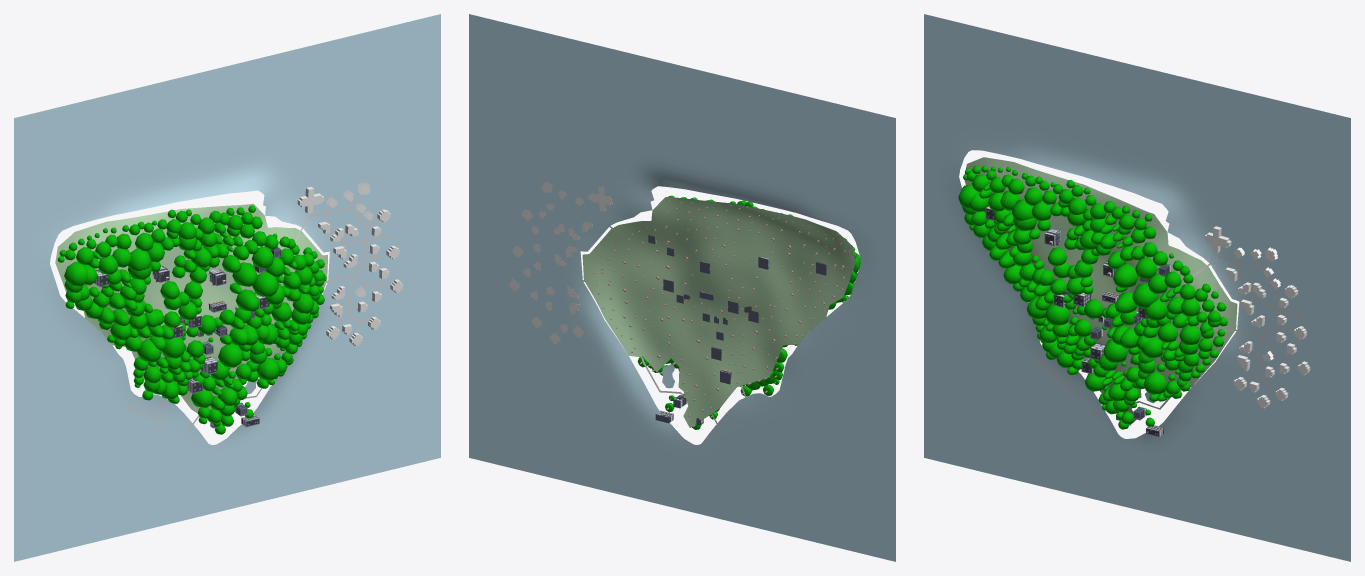
Rendered from kawasan-pantai.glb.
The picture shows the model from 3 angles, left to right: view 1: azimuth 30°, elevation 25°; view 2: azimuth 150°, elevation 25°; view 3: azimuth 330°, elevation 25°; orthographic projection.
Visible parts, largest first — view 1: TPX_Waterways_2, TPX_GreenAreas, TPX_Buildings, TPX_RoadsOutlines; view 2: TPX_Waterways_2, TPX_GreenAreas, TPX_Buildings; view 3: TPX_Waterways_2, TPX_GreenAreas, TPX_Buildings, TPX_RoadsOutlines.
Boxes of the visible parts, left/top/right/bottom form: TPX_Waterways_2: left=14, top=14, right=440, bottom=561; TPX_GreenAreas: left=55, top=203, right=327, bottom=423; TPX_Buildings: left=297, top=182, right=402, bottom=346; TPX_RoadsOutlines: left=126, top=194, right=394, bottom=436; TPX_Waterways_2: left=469, top=14, right=895, bottom=561; TPX_GreenAreas: left=582, top=197, right=855, bottom=427; TPX_Buildings: left=509, top=182, right=612, bottom=344; TPX_Waterways_2: left=924, top=14, right=1350, bottom=561; TPX_GreenAreas: left=964, top=157, right=1237, bottom=425; TPX_Buildings: left=1204, top=226, right=1310, bottom=408; TPX_RoadsOutlines: left=1036, top=247, right=1304, bottom=415.
Bounding box in the file's own units: 552 × 548 × 53.93.
7 materials, 1 textured.
